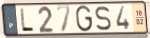2: (37, 5, 55, 34)
4: (115, 5, 132, 31)
7: (56, 5, 73, 34)
G: (75, 5, 94, 33)
L: (19, 7, 35, 33)
S: (94, 5, 113, 32)
